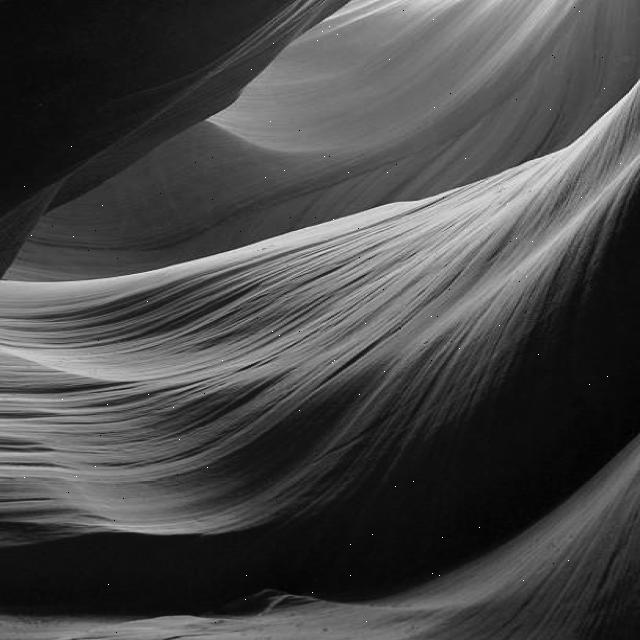Sedimentary: (1, 1, 640, 593)
